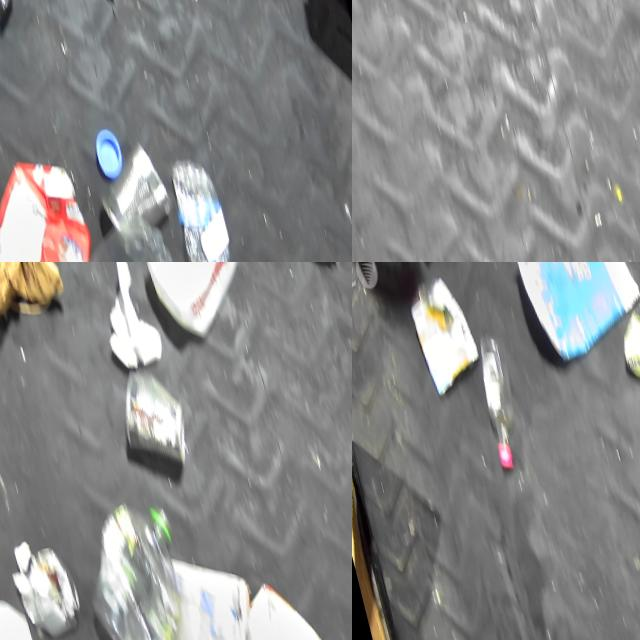can: (85, 125, 178, 241), (402, 268, 485, 397), (111, 356, 192, 469), (610, 291, 640, 384)
milk_jug: (123, 262, 272, 344)
non_white_jug: (502, 262, 640, 368), (227, 558, 352, 640)
plastic_bottle: (68, 488, 204, 640), (160, 142, 247, 262), (47, 198, 192, 262), (468, 328, 530, 468)
